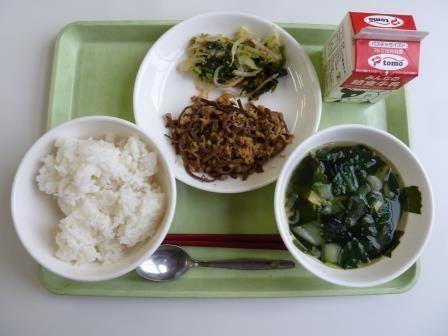Milk: (322, 10, 428, 111)
Rice: (7, 128, 170, 273)
Soups: (286, 132, 416, 265)
cooked food based on meat: (165, 92, 294, 182)
salad with sauce: (177, 25, 288, 99)
